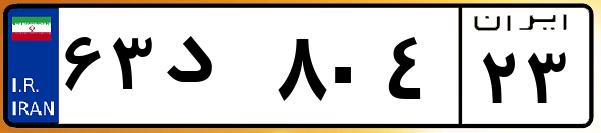0: (330, 28, 385, 110)
2: (475, 38, 525, 113)
3: (525, 38, 570, 115), (110, 28, 158, 98)
4: (385, 28, 445, 110)
6: (57, 26, 110, 100)
8: (270, 28, 330, 110)
د: (158, 20, 270, 120)
